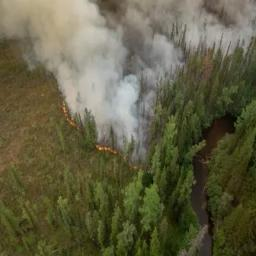Low smoke: (1, 1, 256, 144)
